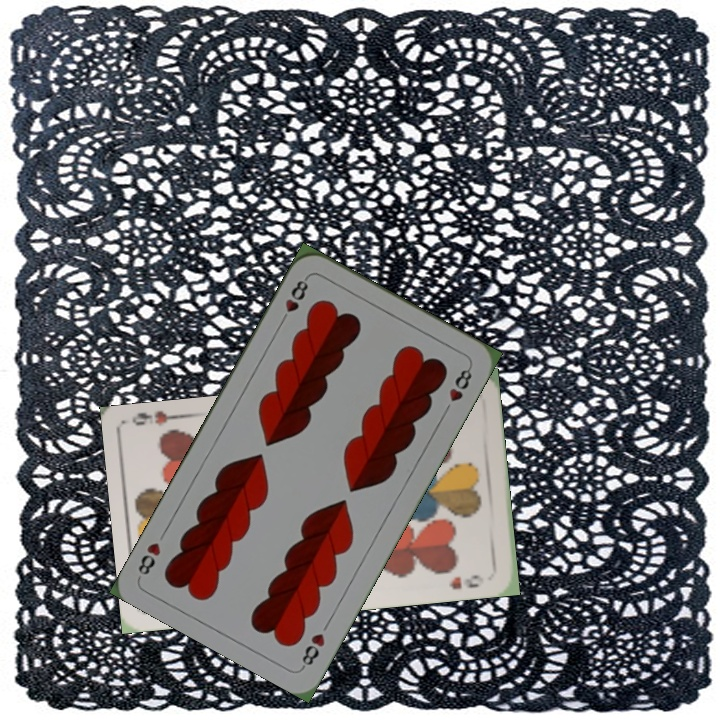H8: (276, 273, 311, 327), (297, 629, 328, 671)
